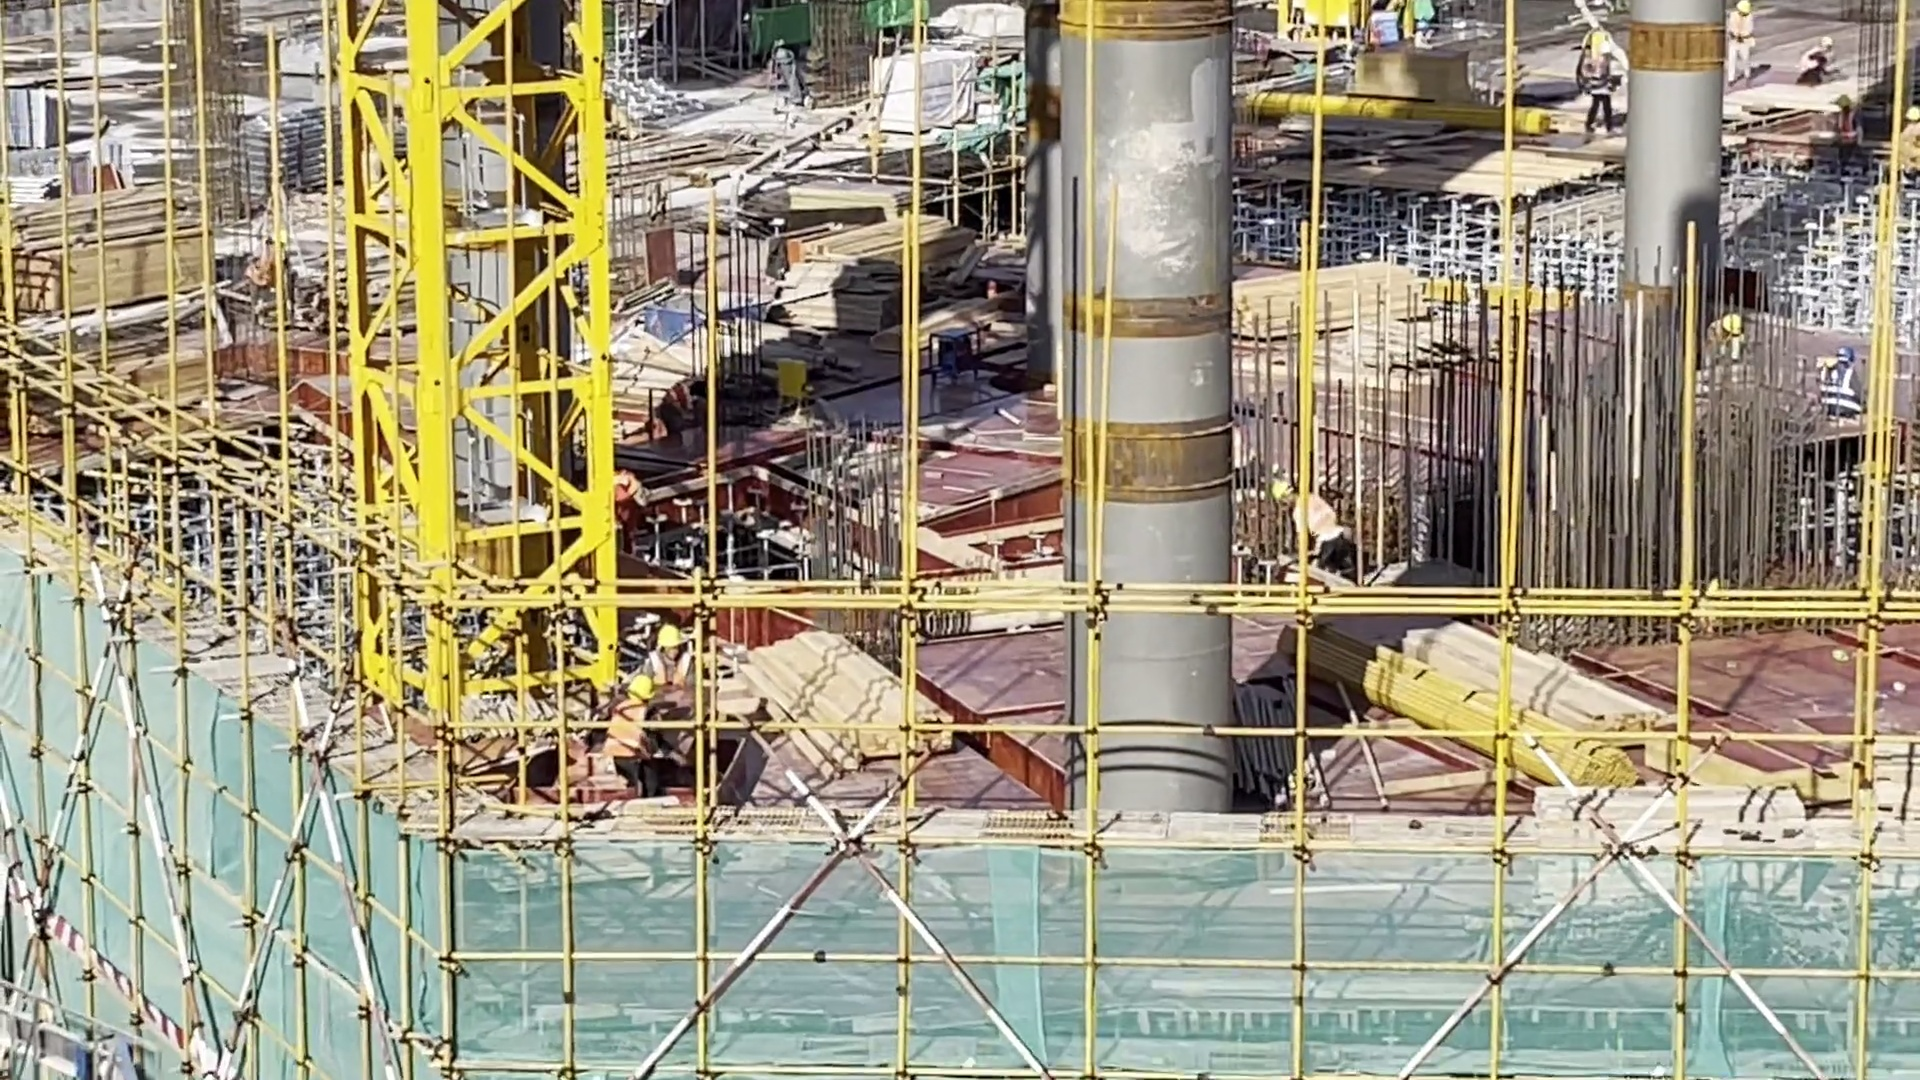ebox: (772, 350, 815, 406)
helmet: (1832, 335, 1864, 379), (651, 622, 683, 653), (1267, 478, 1297, 507), (1717, 306, 1744, 332), (1733, 1, 1752, 18), (1820, 32, 1835, 48)
person: (627, 627, 713, 767), (1268, 479, 1371, 565), (1811, 352, 1867, 443), (1723, 7, 1763, 89), (1710, 316, 1754, 365), (1795, 42, 1836, 83)
vest: (648, 652, 702, 700), (1296, 504, 1347, 544), (614, 697, 648, 758), (1822, 367, 1854, 405)
wood: (742, 633, 945, 764), (1235, 276, 1440, 330)
